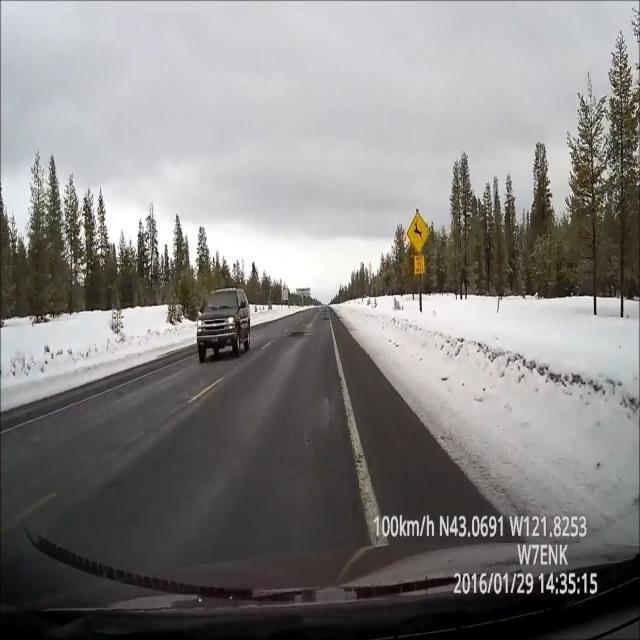pothole: (289, 325, 314, 341)
